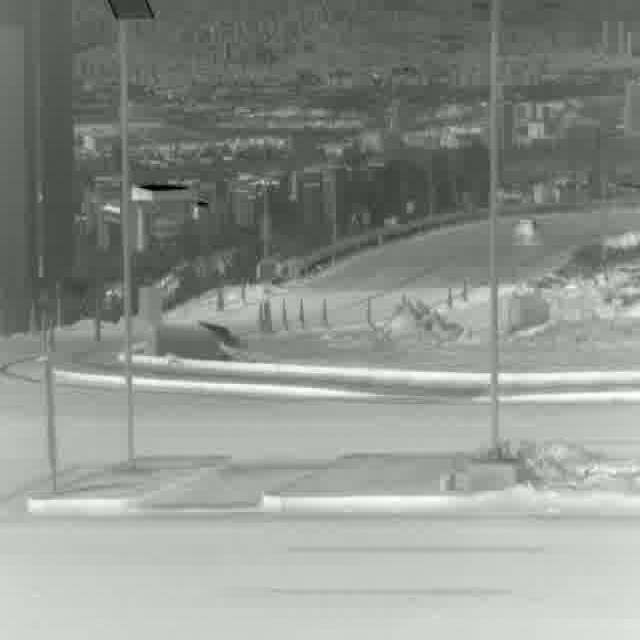Car: (512, 215, 539, 249)
